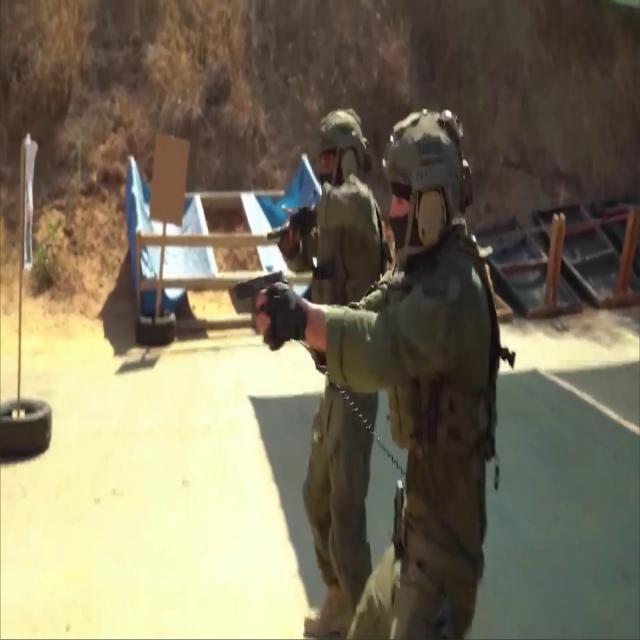Gun: (236, 268, 284, 354), (264, 220, 298, 248)
